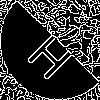H: (25, 25, 82, 83)
